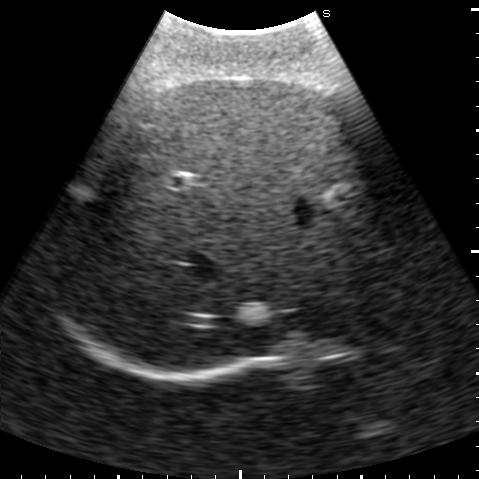S5: (131, 78, 346, 186)
S7: (56, 159, 174, 326)
S8: (120, 164, 386, 369)
Tumor: (236, 302, 269, 326), (325, 183, 354, 209)
